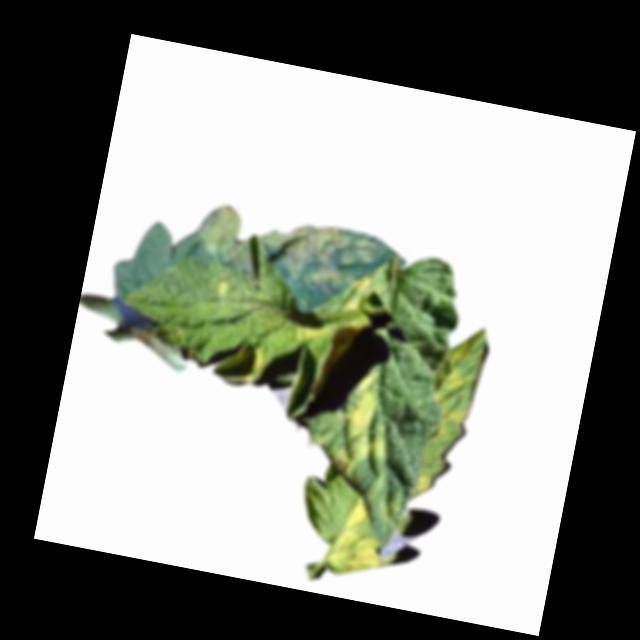Leaf_Mold: (184, 196, 382, 306), (419, 320, 493, 466), (323, 360, 402, 484), (291, 268, 375, 357), (325, 494, 394, 584), (209, 329, 268, 390), (412, 471, 436, 500)
